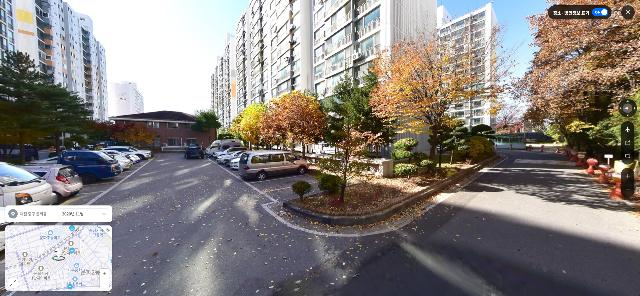other: (367, 5, 526, 171), (516, 0, 639, 135), (1, 48, 97, 164), (300, 106, 384, 203), (321, 63, 394, 159), (259, 86, 328, 153), (590, 85, 639, 158), (231, 101, 269, 150), (111, 121, 154, 152), (567, 119, 602, 152), (493, 103, 528, 133), (86, 118, 115, 147), (190, 109, 221, 133), (546, 118, 571, 145), (215, 124, 236, 140)
